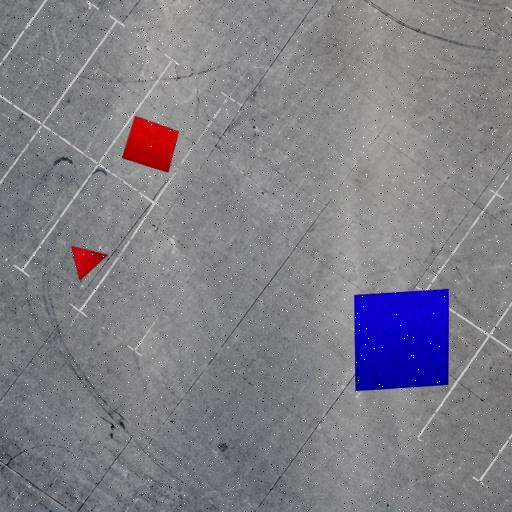BLUE_SQUARE: (354, 289, 448, 391)
RED_SQUARE: (122, 115, 180, 174)
